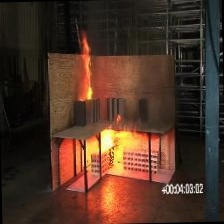fire: (69, 29, 115, 113), (94, 120, 137, 170)
